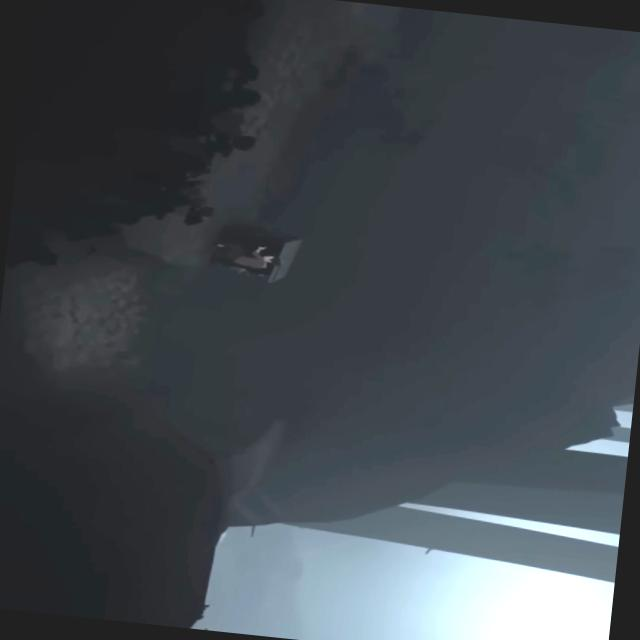boy: (205, 240, 282, 271)
